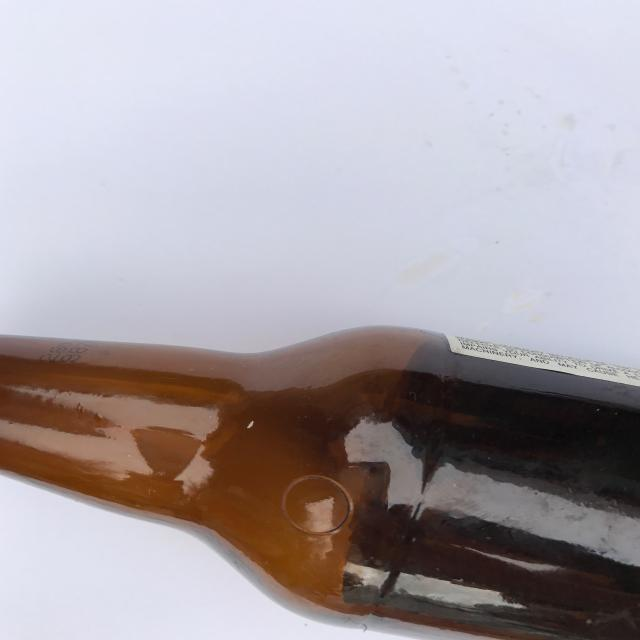glass: (0, 324, 640, 640)
